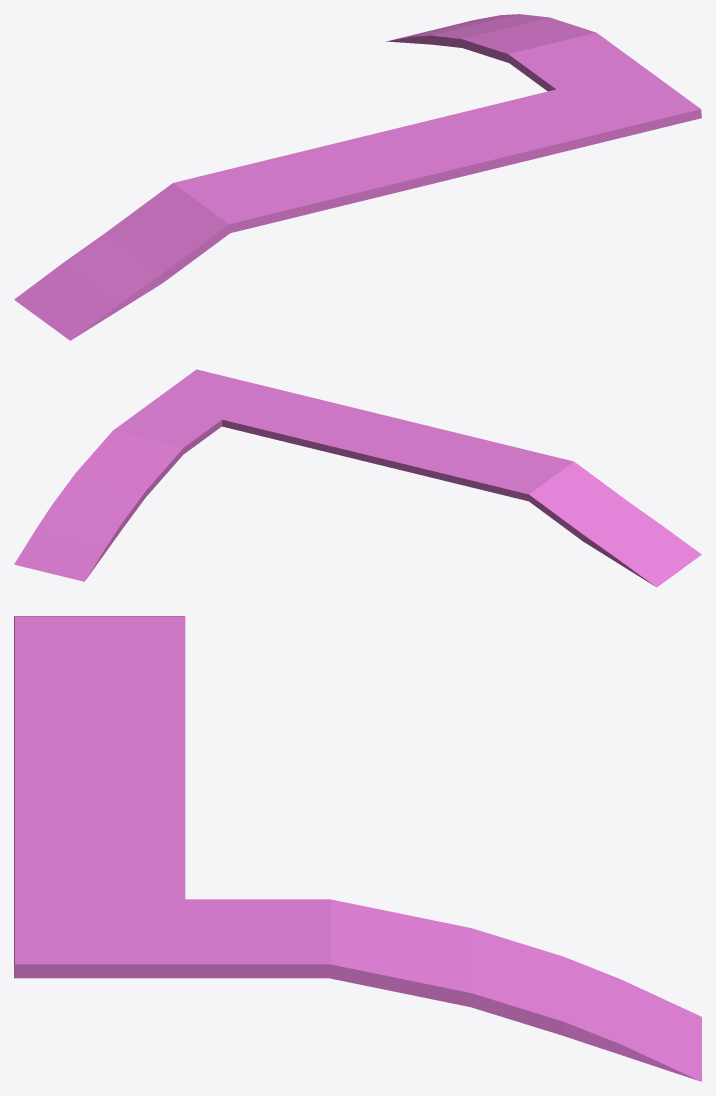
The model's file is Arena3RightRamp.FBX.
3 renders of one model, top to bottom at view 1: azimuth 30°, elevation 25°; view 2: azimuth 150°, elevation 25°; view 3: azimuth 270°, elevation 25°, orthographic. The views are drawn at different scales.
Parts seen in each view (by area): view 1: Arena3RightRamp; view 2: Arena3RightRamp; view 3: Arena3RightRamp.
Part boxes in pixels (x1,y1,x2,y2): Arena3RightRamp: [14, 14, 701, 340]; Arena3RightRamp: [14, 369, 701, 587]; Arena3RightRamp: [14, 616, 701, 1081].
Size of the model in its own units: 4456 by 2783 by 523.
